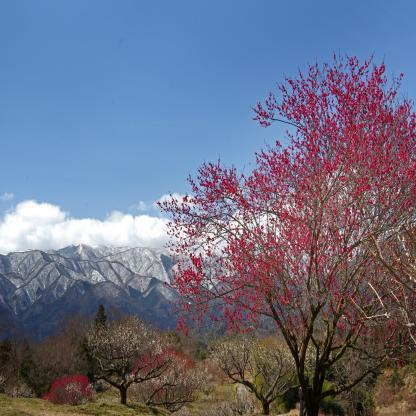Ume: (153, 44, 416, 416), (77, 308, 203, 407), (208, 329, 325, 398), (37, 348, 92, 406)
